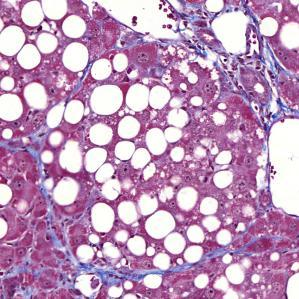fibrosis: (194, 46, 288, 110)
